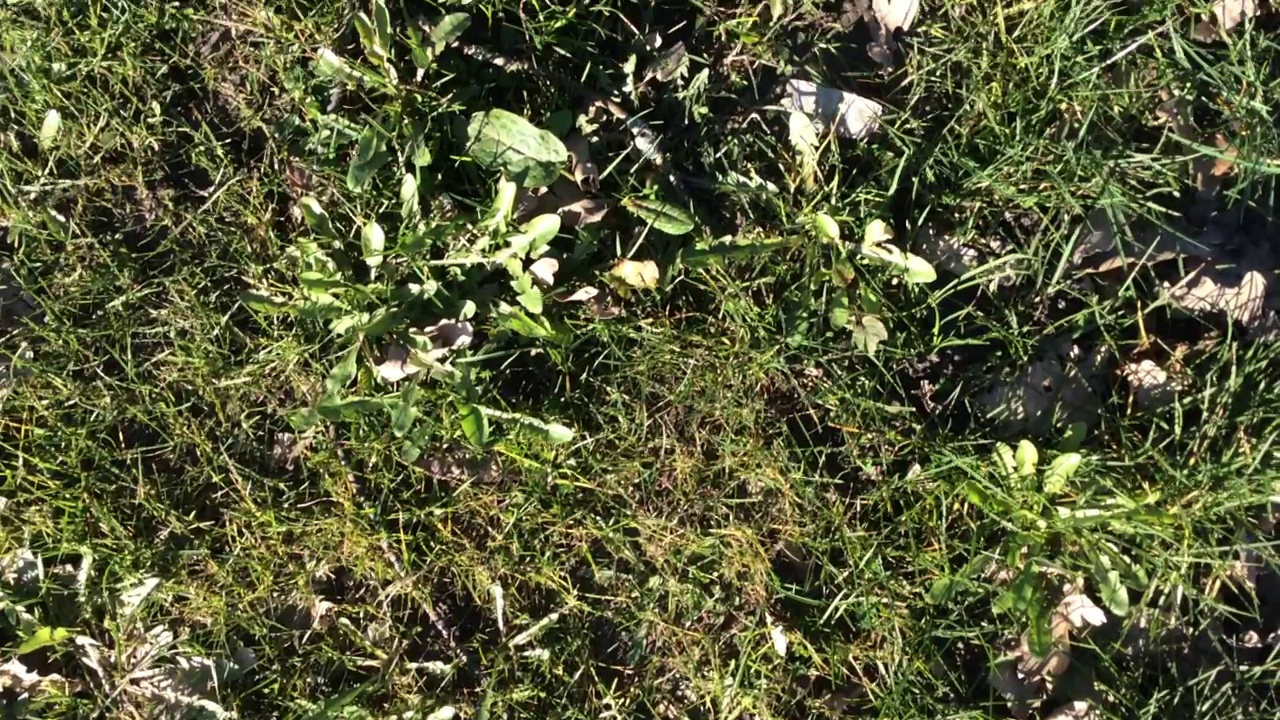rumex: (454, 116, 569, 189), (621, 196, 696, 235)
